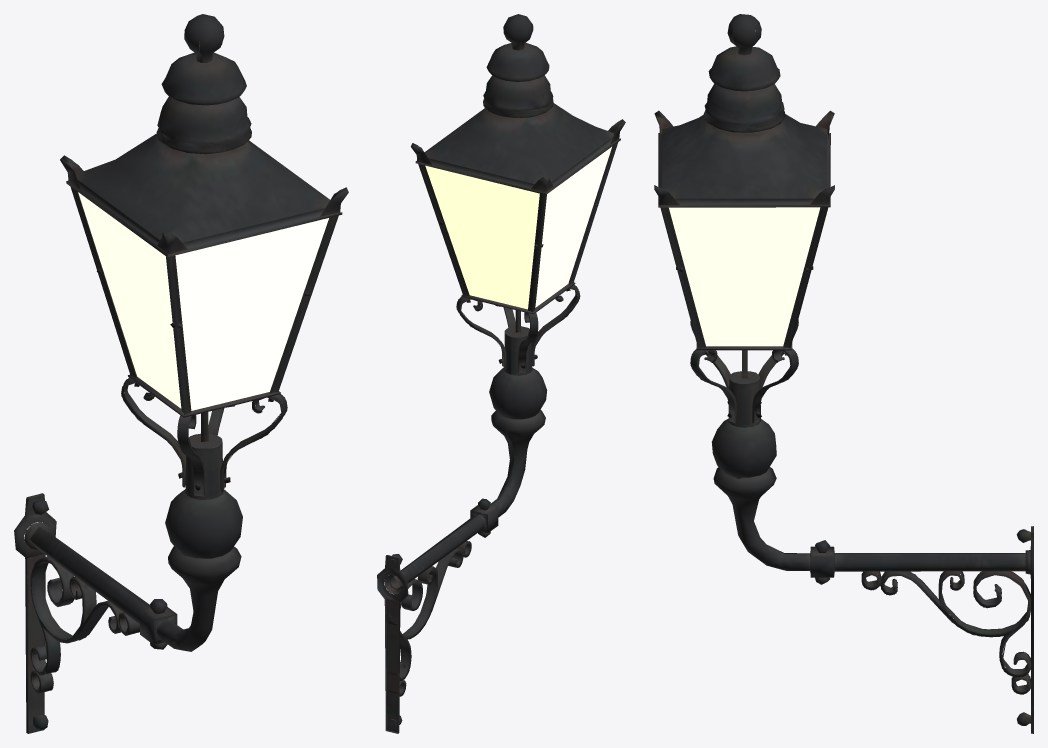
The model's file is wall_lantern.glb.
The picture shows the model from 3 angles, left to right: view 1: azimuth 30°, elevation 25°; view 2: azimuth 150°, elevation 25°; view 3: azimuth 270°, elevation 25°; orthographic projection. The views are drawn at different scales.
Parts seen in each view (by area): view 1: street_lamp_02; view 2: street_lamp_02; view 3: street_lamp_02.
Boxes of the visible parts, x1=… form: street_lamp_02: x1=14, y1=14, x2=348, y2=733; street_lamp_02: x1=377, y1=14, x2=625, y2=733; street_lamp_02: x1=654, y1=14, x2=1033, y2=733.
Size of the model in its own units: 0.3839 by 1.67 by 0.8055.
3 materials, 1 textured.
